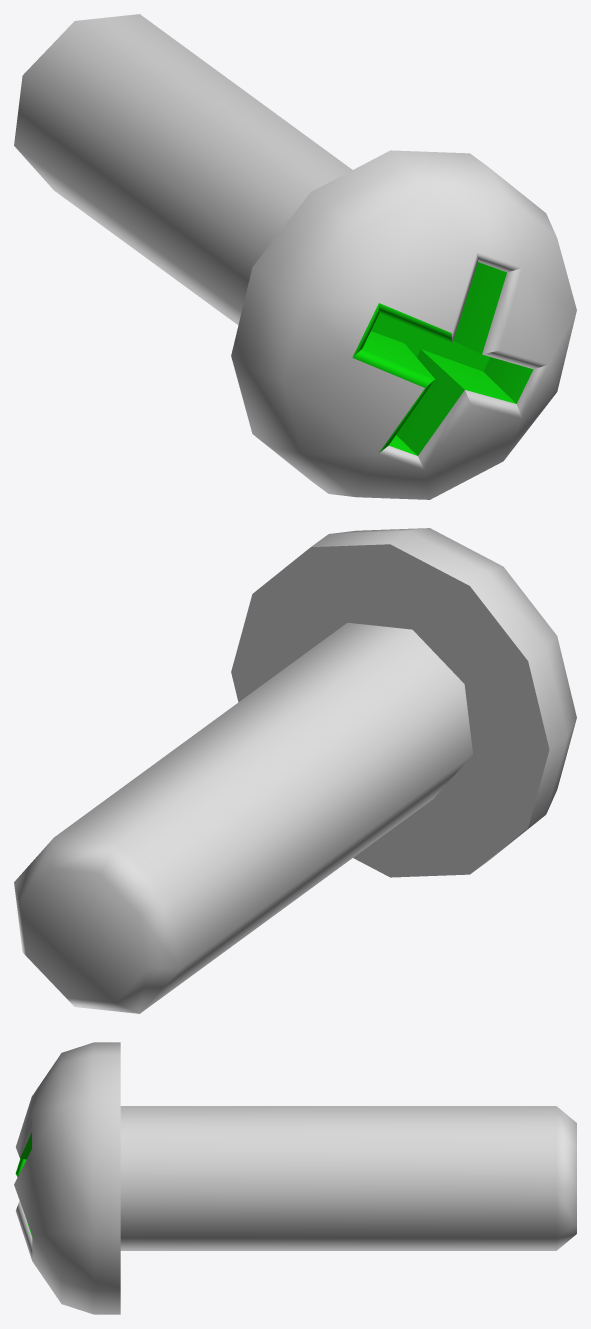
The model's file is Screw_server_rack.fbx.
3 views of the same model, one above another, from view 1: azimuth 30°, elevation 25°; view 2: azimuth 150°, elevation 25°; view 3: azimuth 270°, elevation 25° (orthographic). The views are drawn at different scales.
Parts seen in each view (by area): view 1: Screw_server_rack; view 2: Screw_server_rack; view 3: Screw_server_rack.
Part boxes in pixels (<box>): Screw_server_rack: <box>14,14,576,499</box>; Screw_server_rack: <box>14,528,576,1013</box>; Screw_server_rack: <box>14,1042,576,1314</box>.
Bounding box in the file's own units: 0.00873 × 0.00873 × 0.018.
